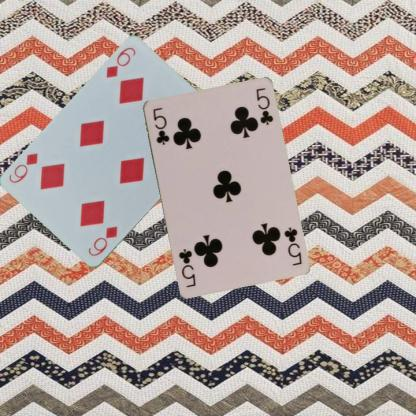5c: (281, 225, 303, 267), (150, 105, 171, 146)
6d: (103, 44, 137, 80), (86, 224, 119, 258)
